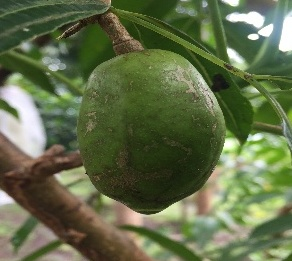Coc: (65, 52, 227, 223)
